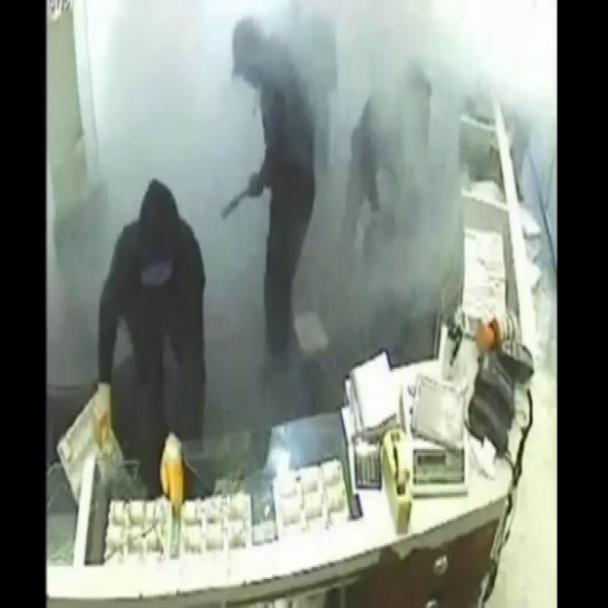smoke: (42, 0, 558, 560)
